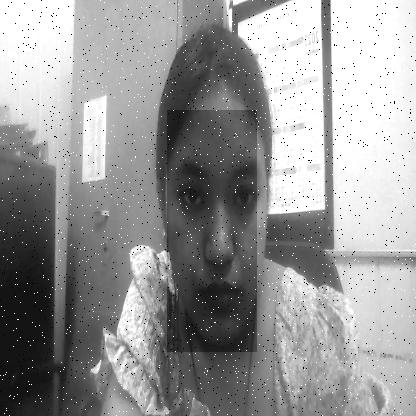Normal: (167, 110, 257, 352)
